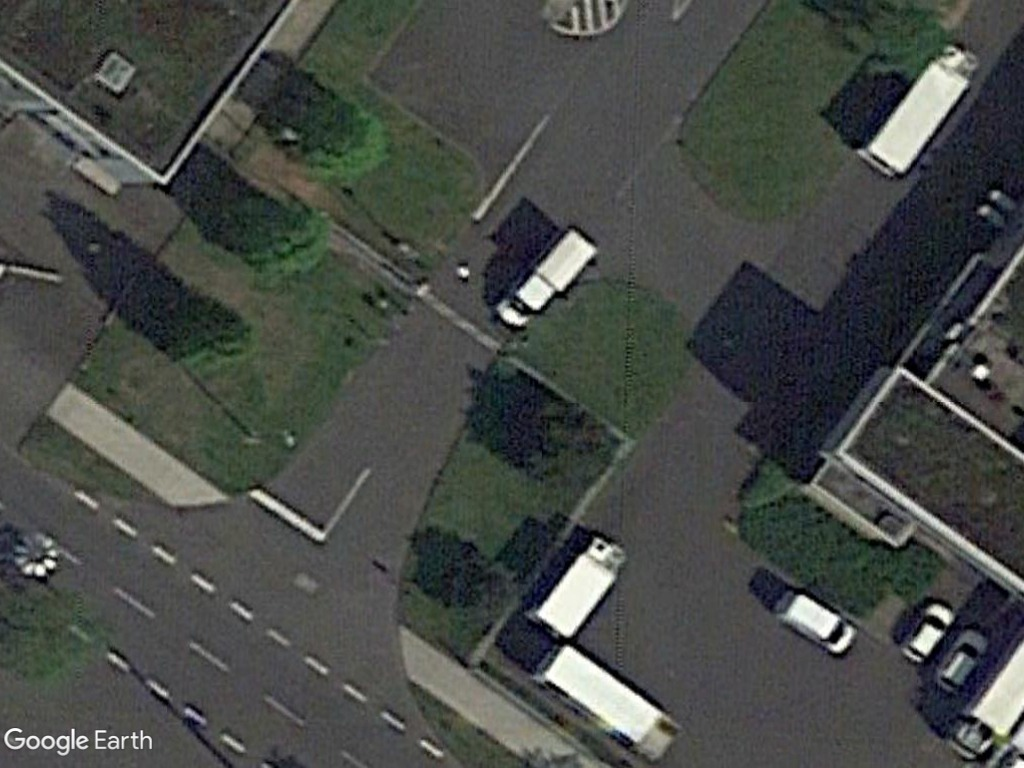car: (893, 589, 959, 674), (927, 623, 991, 703)
truck: (526, 638, 679, 764), (854, 37, 984, 178), (523, 529, 636, 644), (491, 218, 601, 333)
van: (768, 583, 863, 672)
